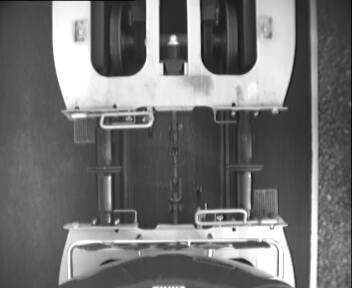Copy of wagon_scan: (80, 1, 268, 84)
